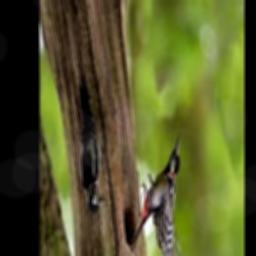Woodpecker: (134, 138, 180, 256), (79, 78, 106, 214)
